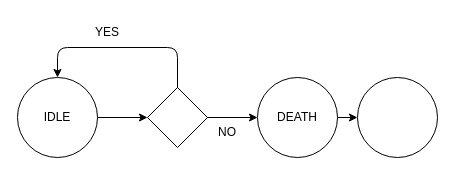
The diagram is 455 pixels wide and 175 high, and some of its shapes have lost their labels. The shapes that lost their labels are listed below. From the top down, each one's centre as x and y in pixels, then its label:
point (177, 117): HP>1
point (397, 117): DEAD
